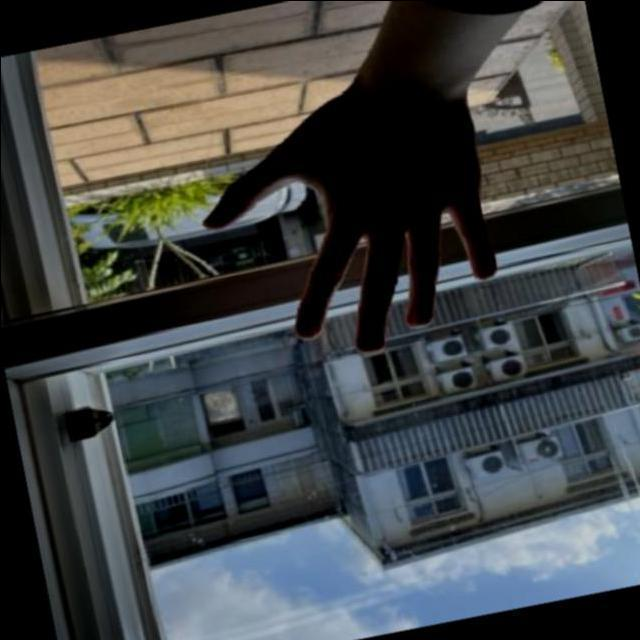Hand: (205, 60, 510, 347)
